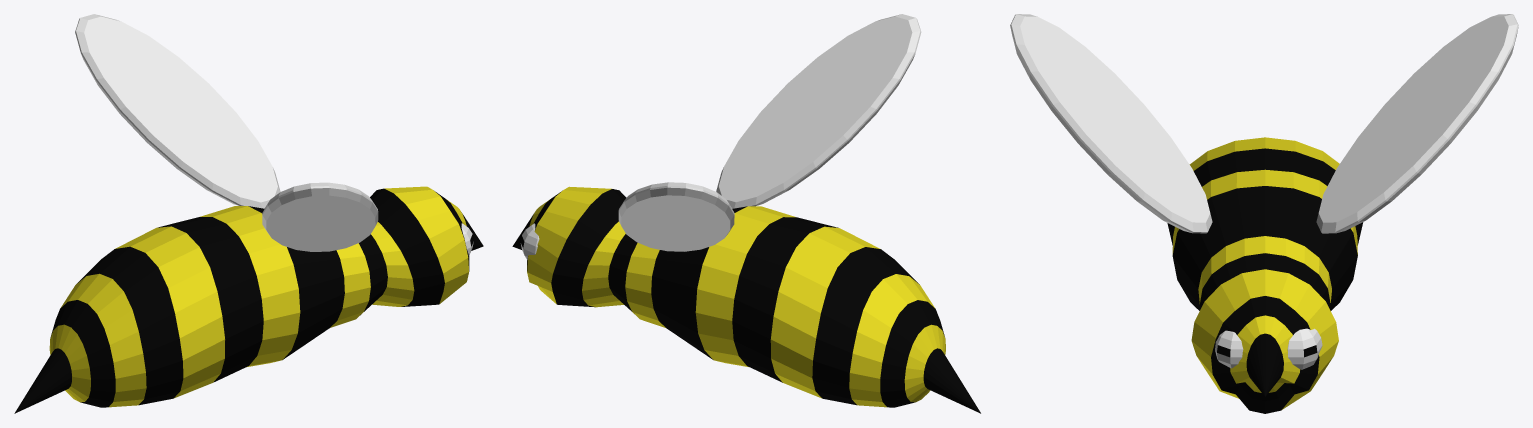
File: pchelka.fbx
The picture shows the model from 3 angles, left to right: view 1: azimuth 30°, elevation 25°; view 2: azimuth 150°, elevation 25°; view 3: azimuth 270°, elevation 25°; orthographic projection. The views are drawn at different scales.
Parts seen in each view (by area): view 1: Cube, Circle, Circle.001; view 2: Cube, Circle.001, Circle, Sphere.002; view 3: Cube, Circle, Circle.001, Sphere.002.
Part boxes in pixels (left/top/right/bottom): Cube: left=14, top=186, right=483, bottom=413; Circle: left=75, top=14, right=280, bottom=208; Circle.001: left=262, top=182, right=378, bottom=251; Cube: left=512, top=186, right=980, bottom=413; Circle.001: left=716, top=14, right=921, bottom=208; Circle: left=618, top=182, right=734, bottom=251; Sphere.002: left=520, top=223, right=539, bottom=259; Cube: left=1167, top=137, right=1363, bottom=413; Circle: left=1316, top=14, right=1518, bottom=233; Circle.001: left=1010, top=14, right=1212, bottom=233; Sphere.002: left=1215, top=328, right=1322, bottom=369.
Bounding box in the file's own units: 532 × 303 × 463.
